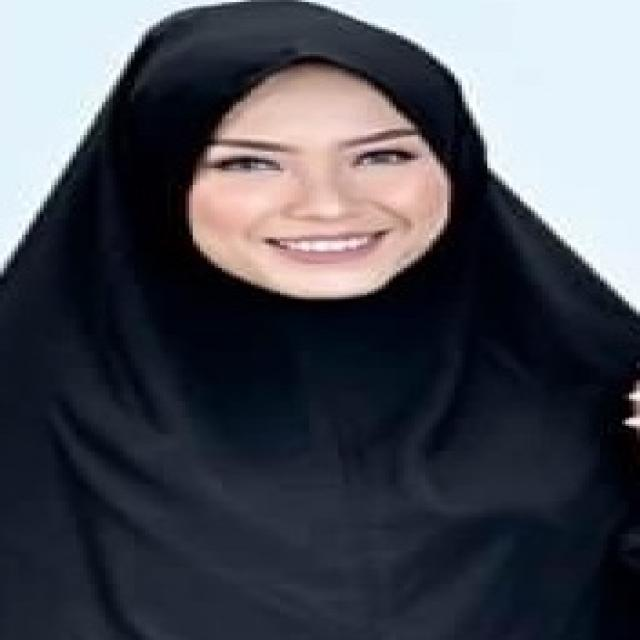head: (135, 18, 497, 304)
